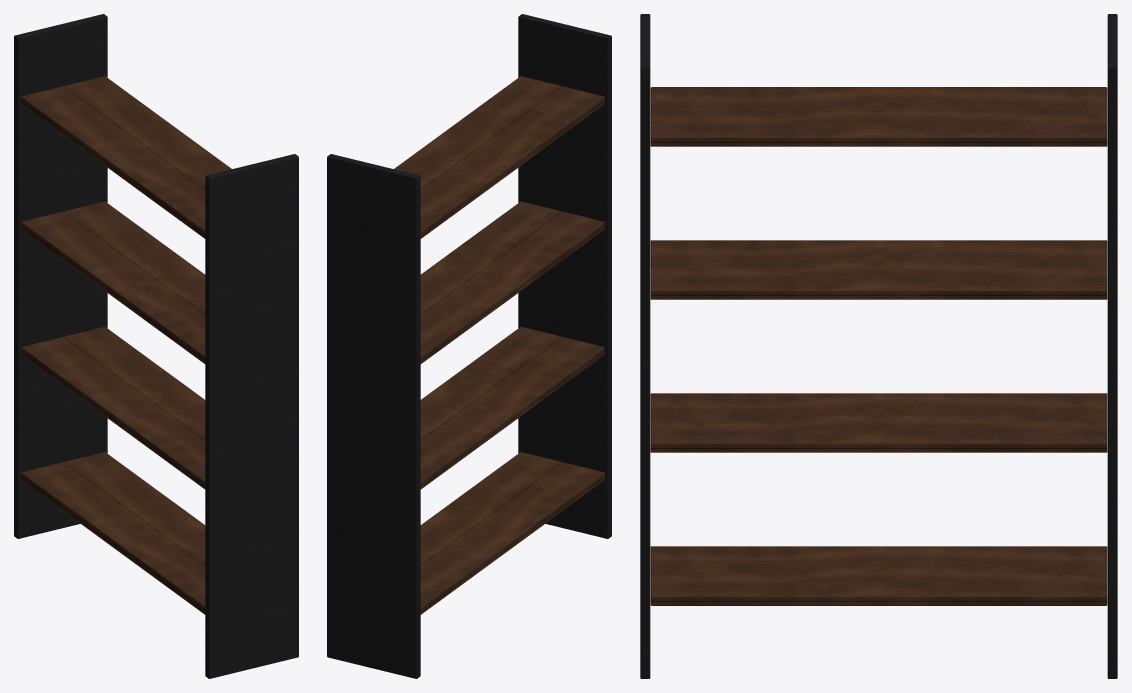
File: laundry_shelf.glb
3 renders of one model, left to right at view 1: azimuth 30°, elevation 25°; view 2: azimuth 150°, elevation 25°; view 3: azimuth 270°, elevation 25°, orthographic. The views are drawn at different scales.
Visible parts, largest first — view 1: laundry_shelf; view 2: laundry_shelf; view 3: laundry_shelf.
Part boxes in pixels (x1,y1,x2,y2): laundry_shelf: [14, 14, 298, 678]; laundry_shelf: [327, 14, 611, 678]; laundry_shelf: [640, 14, 1117, 678].
Bounding box in the file's own units: 0.32 × 1.7 × 1.2.
2 materials, 2 textured.
